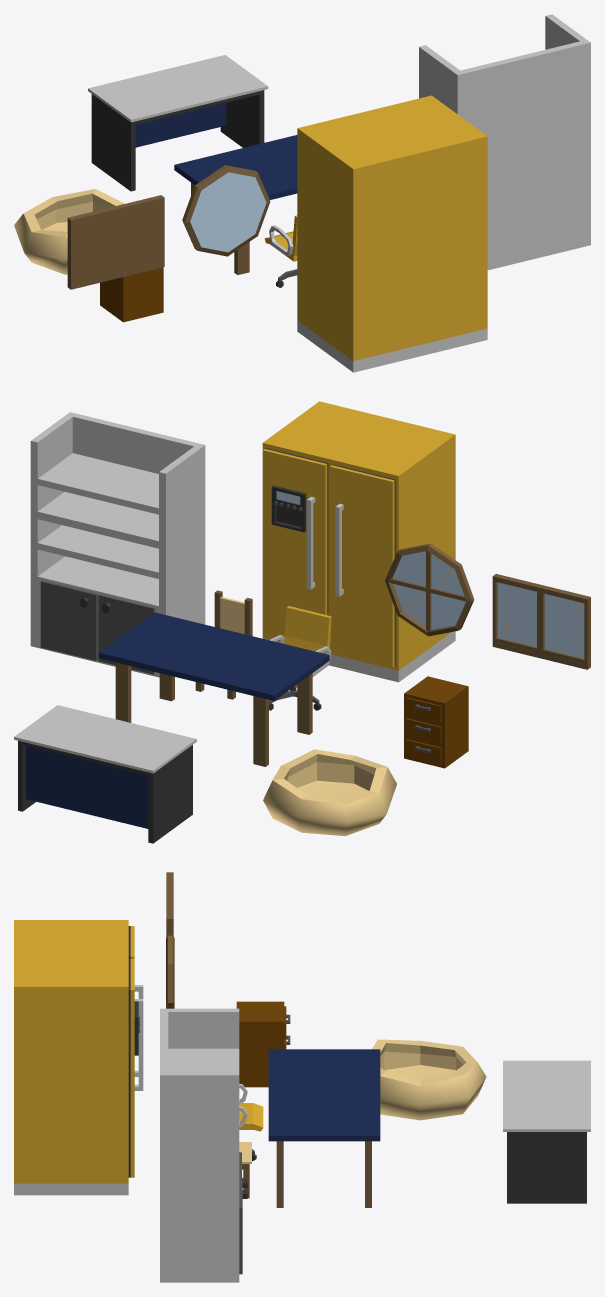
The model's file is FurnitureAssets_v01a.fbx.
3 views of the same model, one above another, from view 1: azimuth 30°, elevation 25°; view 2: azimuth 150°, elevation 25°; view 3: azimuth 270°, elevation 25° (orthographic). The views are drawn at different scales.
Parts seen in each view (by area): view 1: Fridge_2, Office_shelf, Office_table_2, polySurface18, polySurface13, Kitchen_table, pCube1, Pedestal_table_3, Office_chair; view 2: Fridge_2, Office_shelf, Office_table_2, Kitchen_table, pCube1, polySurface18, polySurface13, Pedestal_table_3, Office_chair, Chair_1; view 3: Fridge_2, Office_shelf, Office_table_2, Kitchen_table, pCube1, Pedestal_table_3, Office_chair, polySurface13.
Part boxes in pixels (<box>): Fridge_2: <box>297,95,487,372</box>; Office_shelf: <box>419,14,590,270</box>; Office_table_2: <box>88,55,268,191</box>; polySurface18: <box>67,195,164,289</box>; polySurface13: <box>182,165,270,256</box>; Kitchen_table: <box>174,135,297,274</box>; pCube1: <box>14,189,124,274</box>; Pedestal_table_3: <box>100,267,163,322</box>; Office_chair: <box>264,215,297,287</box>; Fridge_2: <box>262,401,455,682</box>; Office_shelf: <box>30,412,205,677</box>; Office_table_2: <box>14,705,196,843</box>; Kitchen_table: <box>98,612,329,766</box>; pCube1: <box>263,749,396,836</box>; polySurface18: <box>492,574,590,669</box>; polySurface13: <box>385,543,474,636</box>; Pedestal_table_3: <box>404,676,468,768</box>; Office_chair: <box>269,606,331,710</box>; Chair_1: <box>195,590,252,699</box>; Fridge_2: <box>14,920,143,1195</box>; Office_shelf: <box>160,1008,247,1282</box>; Office_table_2: <box>503,1060,590,1203</box>; Kitchen_table: <box>268,1049,380,1207</box>; pCube1: <box>372,1039,486,1120</box>; Pedestal_table_3: <box>236,1001,290,1087</box>; Office_chair: <box>239,1084,263,1161</box>; polySurface13: <box>166,934,174,1008</box>.
Bounding box in the file's own units: 3848 × 1484 × 3634.
